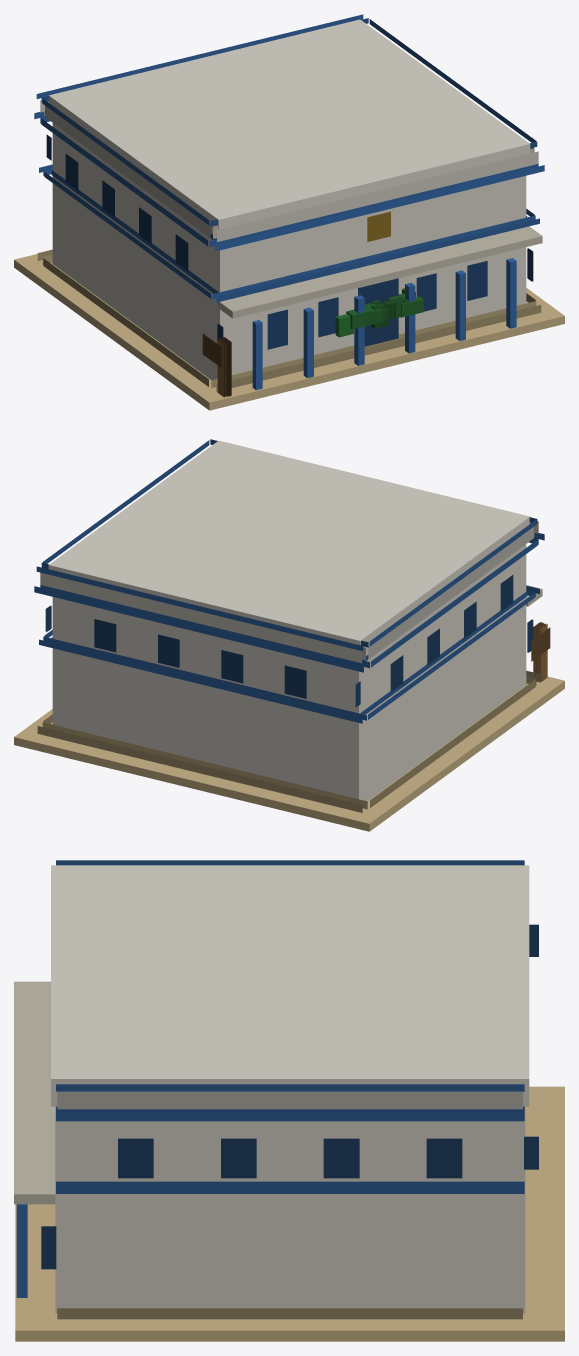
File: NefertitiBustSil.fbx
The picture shows the model from 3 angles, top to bottom: view 1: azimuth 30°, elevation 25°; view 2: azimuth 150°, elevation 25°; view 3: azimuth 270°, elevation 25°; orthographic projection. The views are drawn at different scales.
Visible parts, largest first — view 1: AM_S_All; view 2: AM_S_All; view 3: AM_S_All.
Boxes of the visible parts, <box> form: AM_S_All: <box>14,14,564,410</box>; AM_S_All: <box>14,439,564,831</box>; AM_S_All: <box>14,860,564,1341</box>.
Size of the model in its own units: 42.04 by 19.9 by 40.14.
